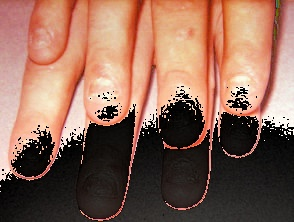Nail_psoriasis: (156, 84, 212, 142), (73, 158, 132, 212), (7, 121, 61, 177), (84, 61, 127, 122), (221, 71, 261, 115), (160, 157, 203, 197), (22, 23, 61, 62), (220, 112, 258, 145)
